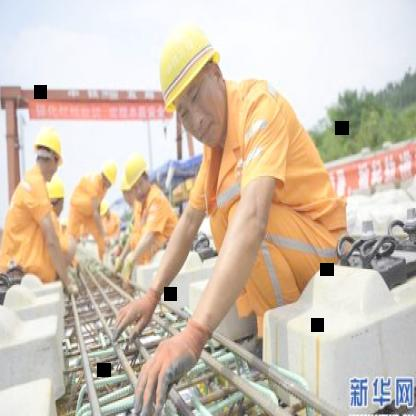helmet: (148, 12, 233, 154), (32, 125, 64, 185), (121, 148, 150, 204), (46, 168, 66, 220), (97, 160, 119, 192), (98, 198, 112, 220)
